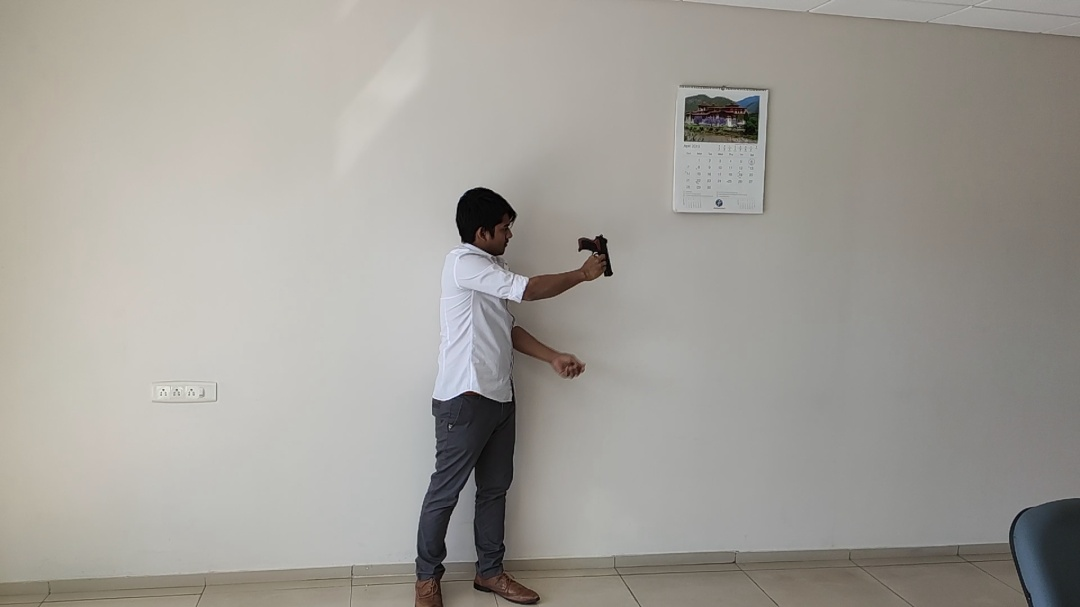gun: (294, 59, 692, 538)
